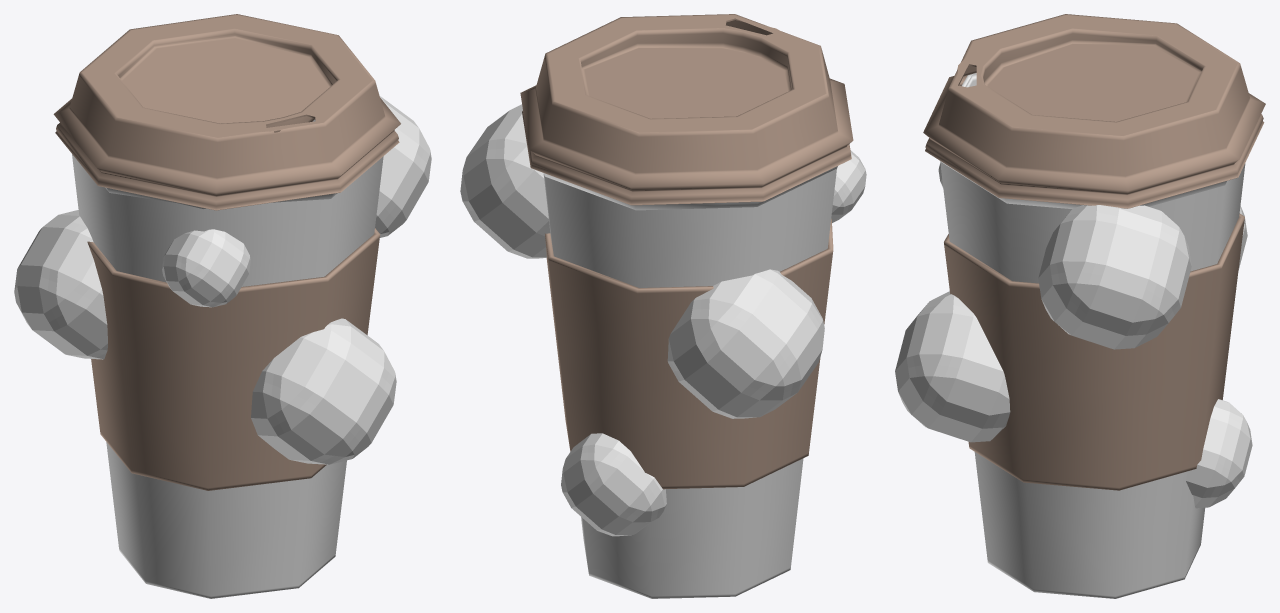
The model's file is GhostRoast.fbx.
3 views of the same model, side by side, from view 1: azimuth 30°, elevation 25°; view 2: azimuth 150°, elevation 25°; view 3: azimuth 270°, elevation 25° (orthographic).
Visible parts, largest first — view 1: Lid, Cup, Sleeve, Cube, Cube.002, Cube.004, Cube.003; view 2: Lid, Cup, Sleeve, Cube.002, Cube.003, Cube.001, Cube.004; view 3: Lid, Sleeve, Cup, Cube.003, Cube, Cube.001.
Part boxes in pixels (x1,y1,x2,y2): Lid: (53,14,400,210); Cup: (72,154,383,598); Sleeve: (87,228,380,490); Cube: (251,318,396,464); Cube.002: (14,210,107,359); Cube.004: (162,229,250,307); Cube.003: (313,96,431,237); Lid: (520,14,853,205); Cup: (543,166,837,598); Sleeve: (545,219,833,489); Cube.002: (667,269,824,418); Cube.003: (460,104,550,258); Cube.001: (561,433,666,536); Cube.004: (831,150,866,222); Lid: (923,14,1265,208); Sleeve: (944,213,1244,490); Cup: (940,73,1245,598); Cube.003: (1038,205,1191,349); Cube: (895,291,1010,442); Cube.001: (1185,399,1252,508).
Bounding box in the file's own units: 382 × 486 × 342.
